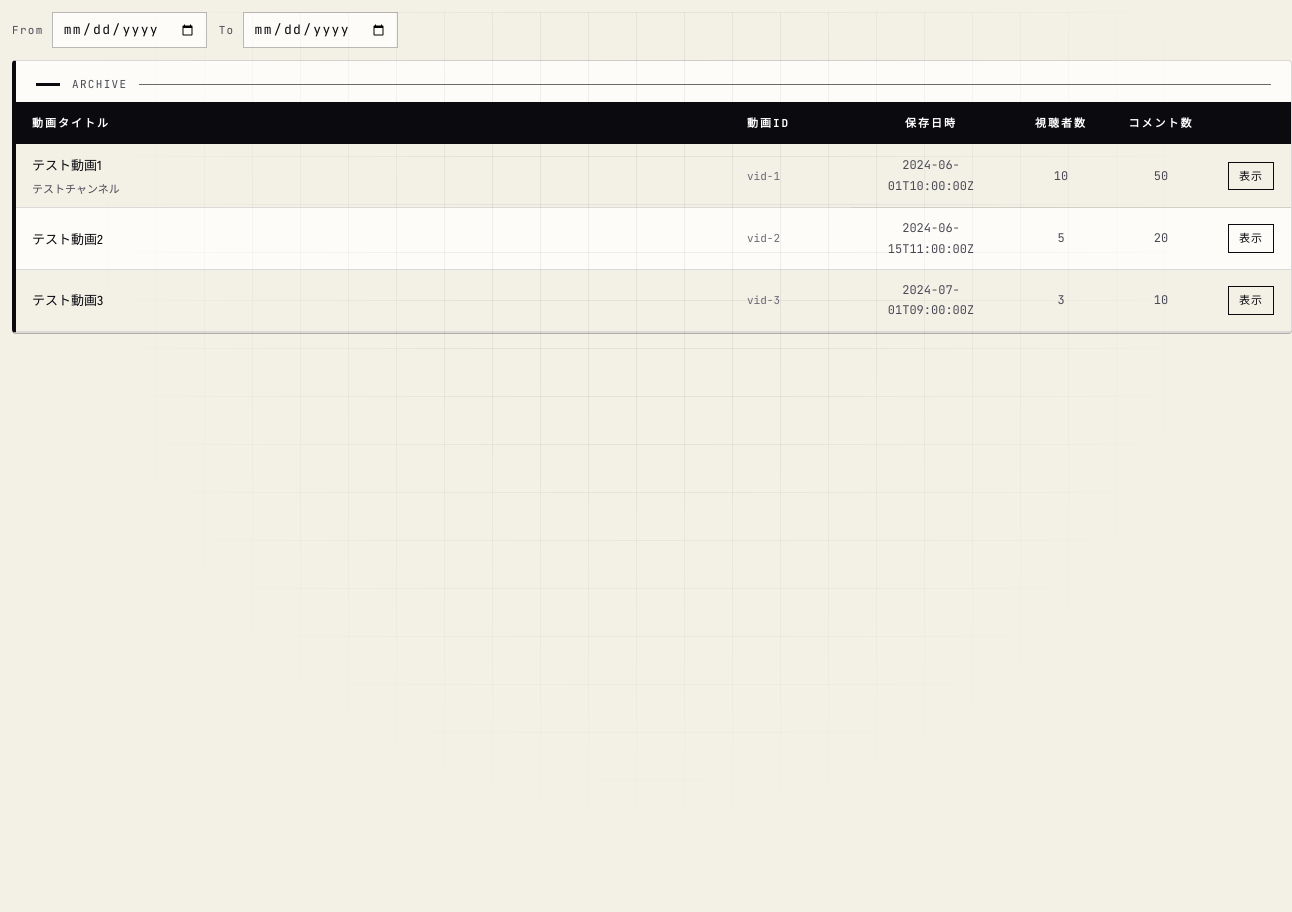
Test: HistoryList › to のみ指定すると以前の件数に絞られる
This screenshot has width=1292, height=912.
// To input は2番目の date input
Type "2024-06-15" into the date field labelled "To" at (320,30), box [242, 12, 398, 48]
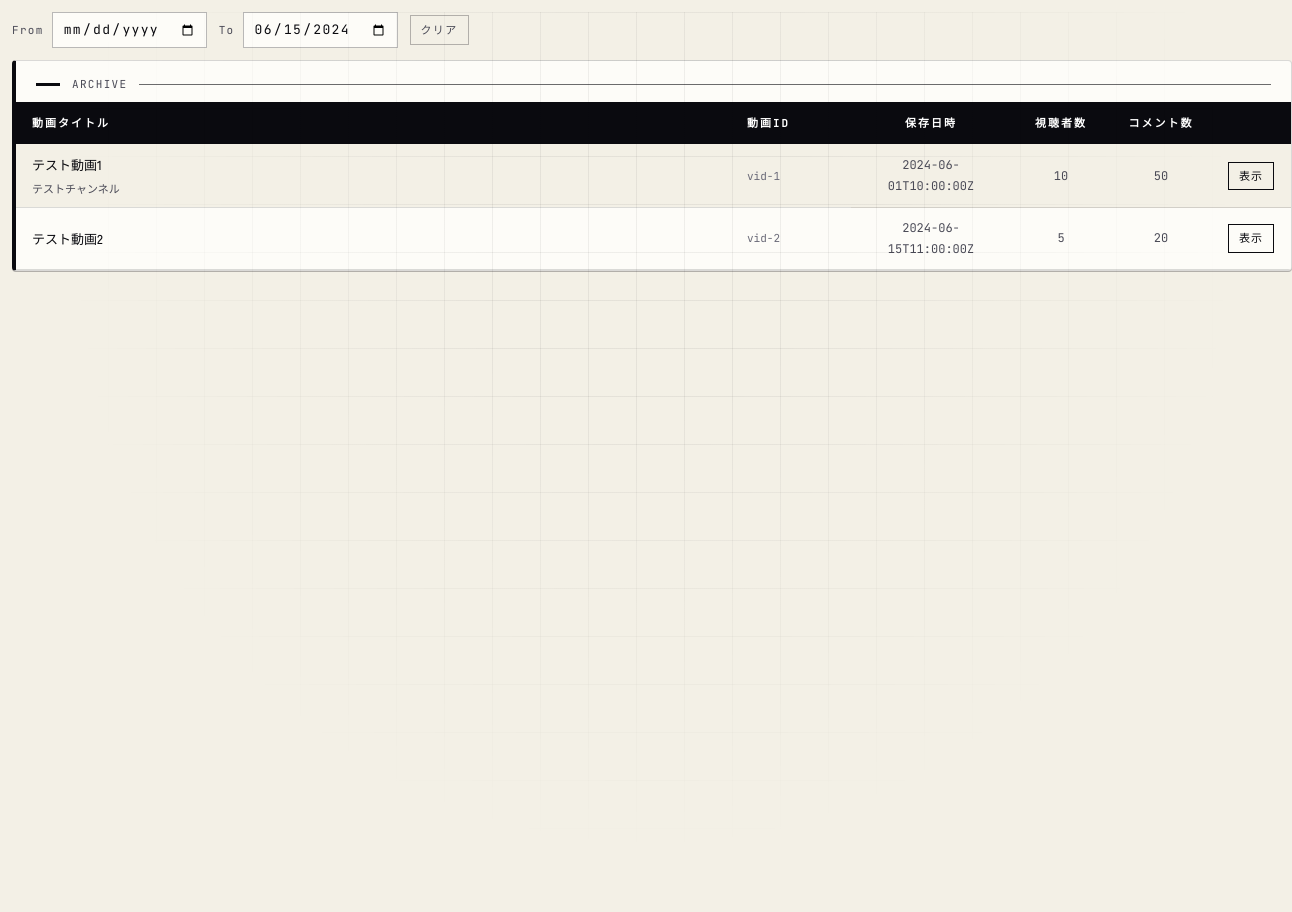
Expected: the text "vid-1" is shown, [731, 144, 851, 208]
Now the text "vid-3" is gone
